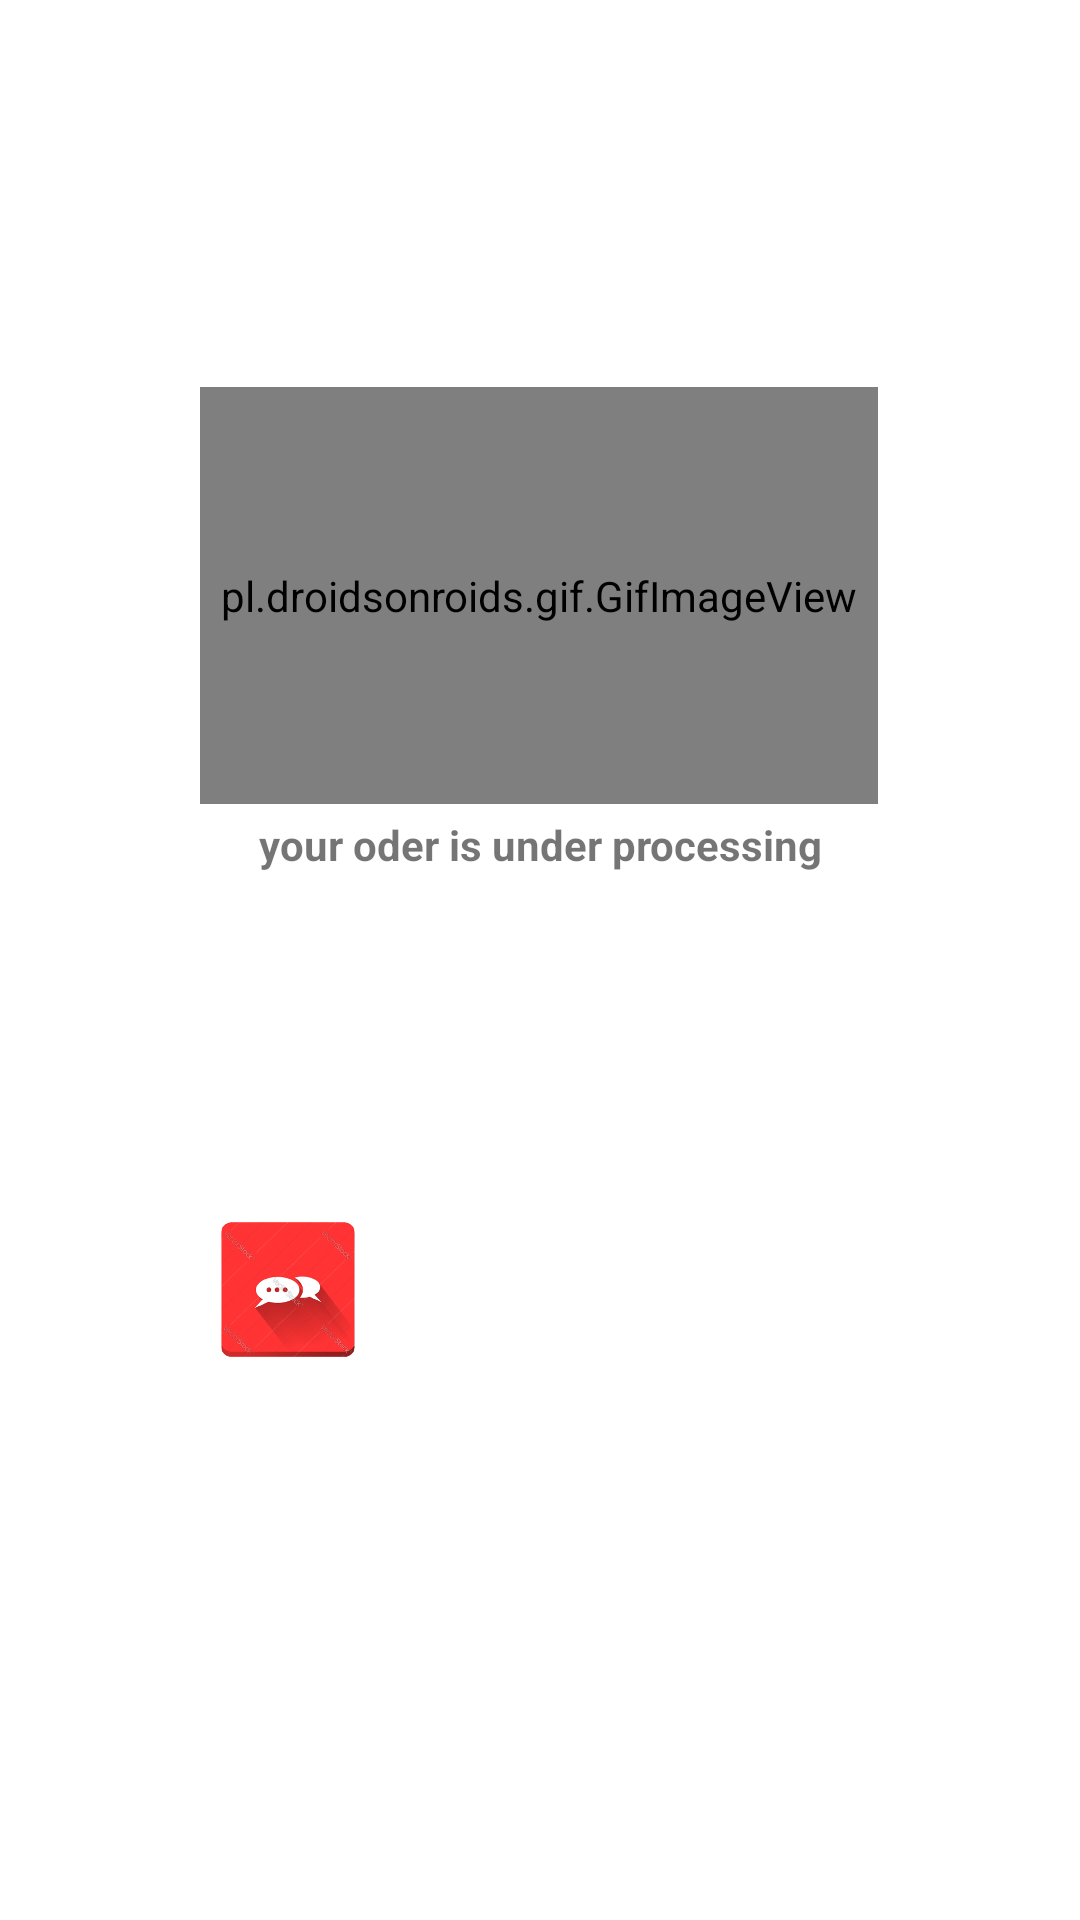

Where to tap for icons on this 1080*1920 app screen, as [x,y]:
chatlast: [288,1289]
